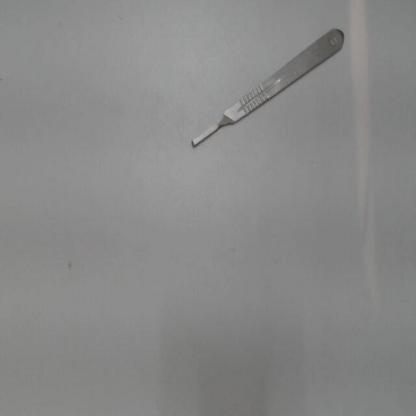No.4 BP Handle: (178, 17, 355, 169)
